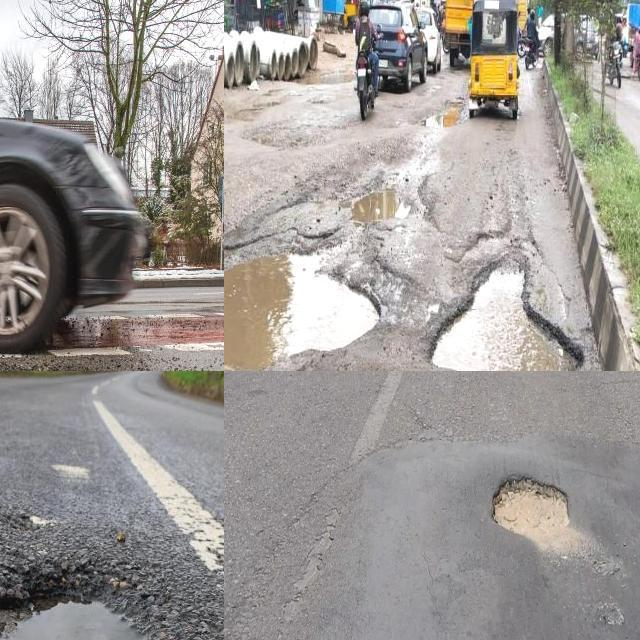Pothole: (224, 245, 380, 369), (431, 253, 580, 371), (0, 569, 158, 640), (491, 469, 572, 545), (343, 169, 438, 228)
